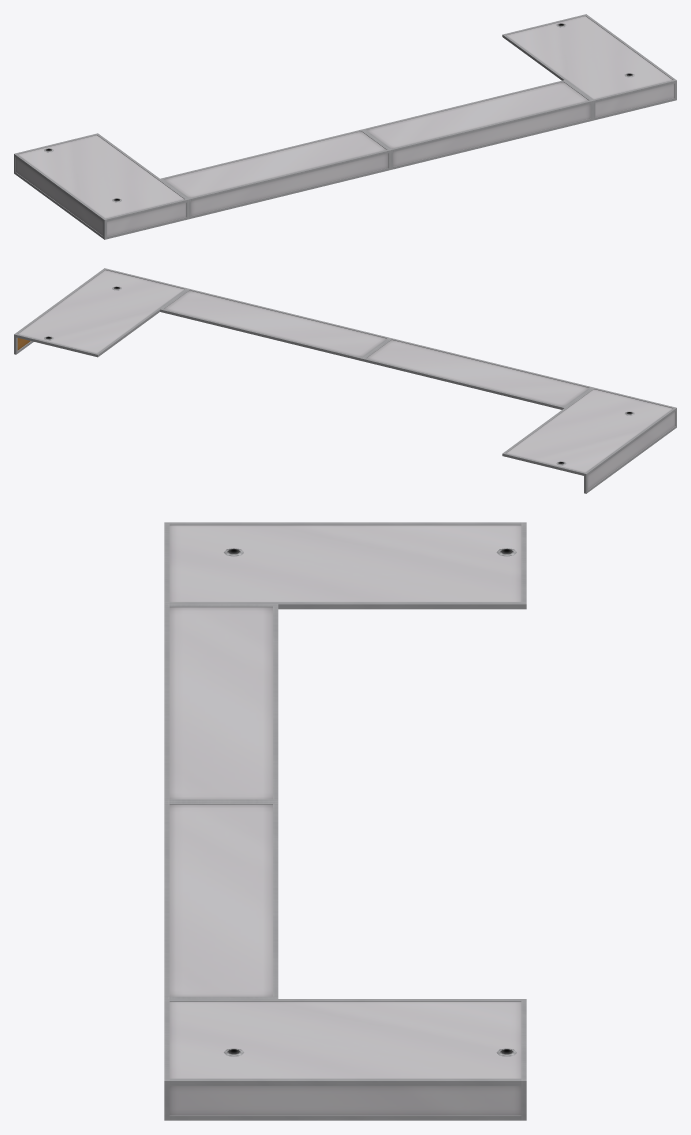
The model's file is jsf_4P_s04_c04_t03_DX.fbx.
3 renders of one model, top to bottom at view 1: azimuth 30°, elevation 25°; view 2: azimuth 150°, elevation 25°; view 3: azimuth 270°, elevation 25°, orthographic. The views are drawn at different scales.
Parts seen in each view (by area): view 1: jsf_4P_s04_c04_t03_DX; view 2: jsf_4P_s04_c04_t03_DX; view 3: jsf_4P_s04_c04_t03_DX.
Boxes of the visible parts, left/top/right/bottom form: jsf_4P_s04_c04_t03_DX: left=14, top=14, right=676, bottom=239; jsf_4P_s04_c04_t03_DX: left=14, top=268, right=676, bottom=493; jsf_4P_s04_c04_t03_DX: left=164, top=522, right=526, bottom=1120.
Bounding box in the file's own units: 378 × 12.99 × 104.
